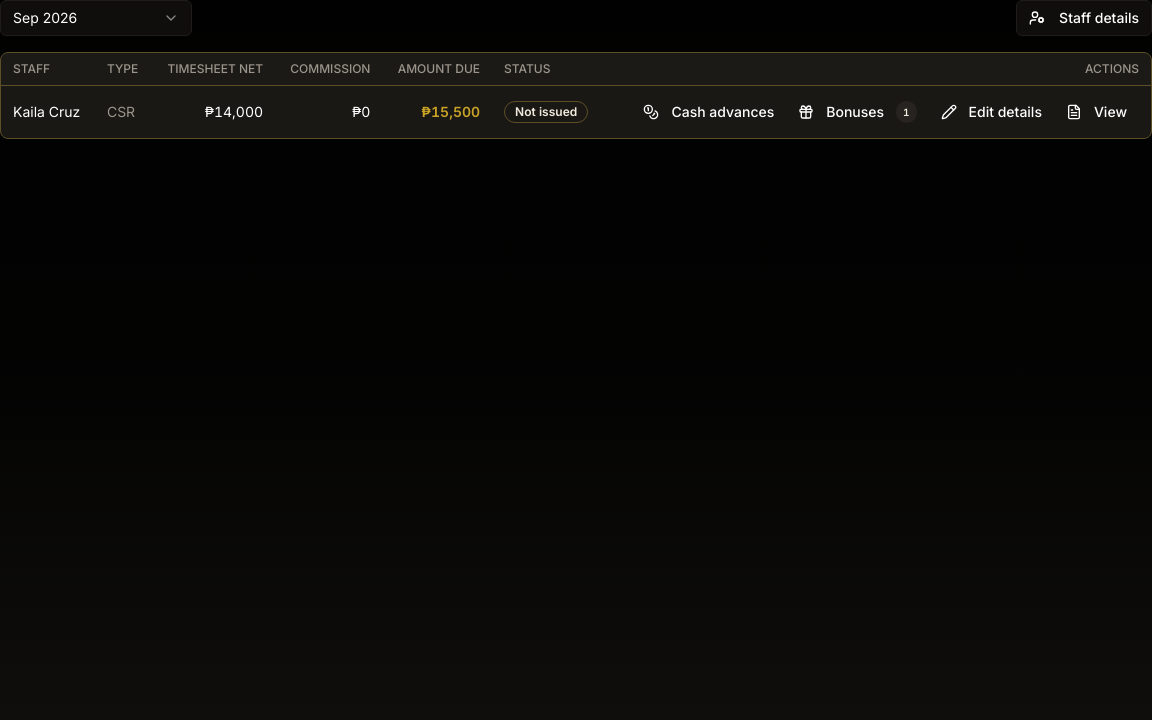
Payslips tab — bonuses › adds a bonus with 2 proofs: category, date, amount, note, then both files attached
Later steps or results of the test are not shown.
Click the button with test id "payslip-bonuses-open".
click(857, 112)  # box [786,94,928,130]
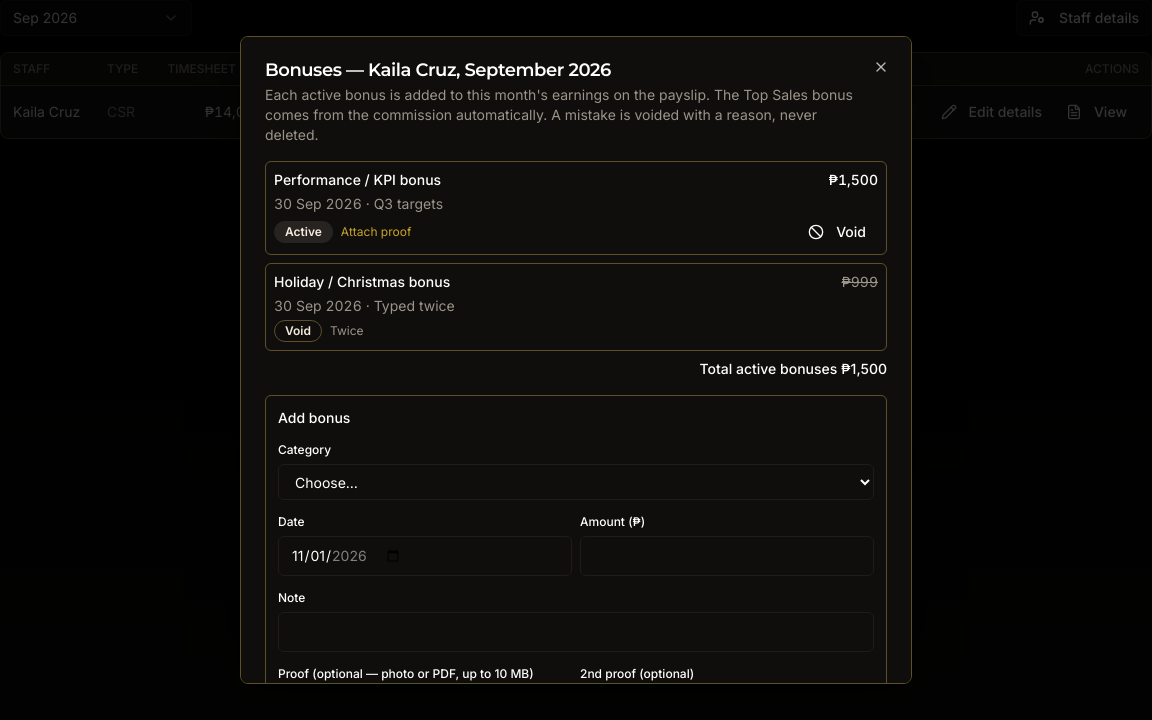
expect the heading "Bonuses — Kaila Cruz, September 2026" is shown: met, box [265,59,611,81]
expect the number of elements with test id "bonus-row" is 2: met, box [265,161,887,255]; [265,263,887,351]
expect the text with test id "bonuses-total" shows "₱1,500": met, box [841,360,887,377]
